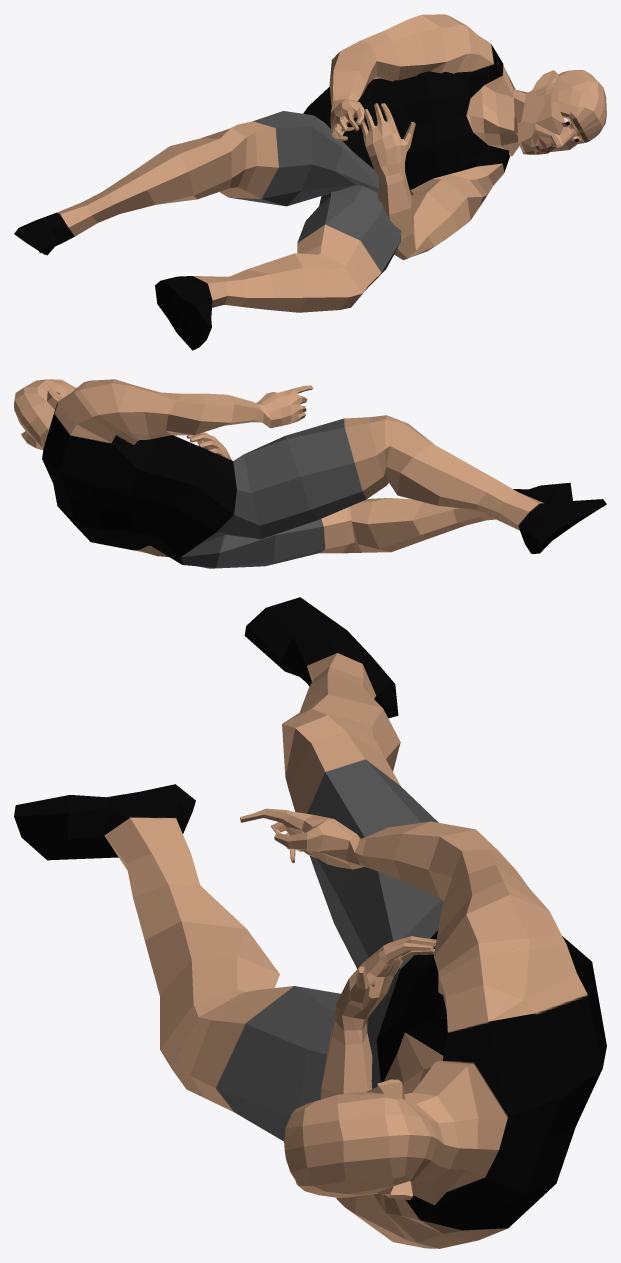
Rendered from PlayerDead(50).obj.
The picture shows the model from 3 angles, top to bottom: view 1: azimuth 30°, elevation 25°; view 2: azimuth 150°, elevation 25°; view 3: azimuth 270°, elevation 25°; orthographic projection. The views are drawn at different scales.
Visible parts, largest first — view 1: Plane002; view 2: Plane002; view 3: Plane002.
Boxes of the visible parts, <box> form: Plane002: <box>14,14,606,350</box>; Plane002: <box>14,379,606,568</box>; Plane002: <box>14,597,606,1248</box>.
Size of the model in its own units: 1773 by 561 by 843.
